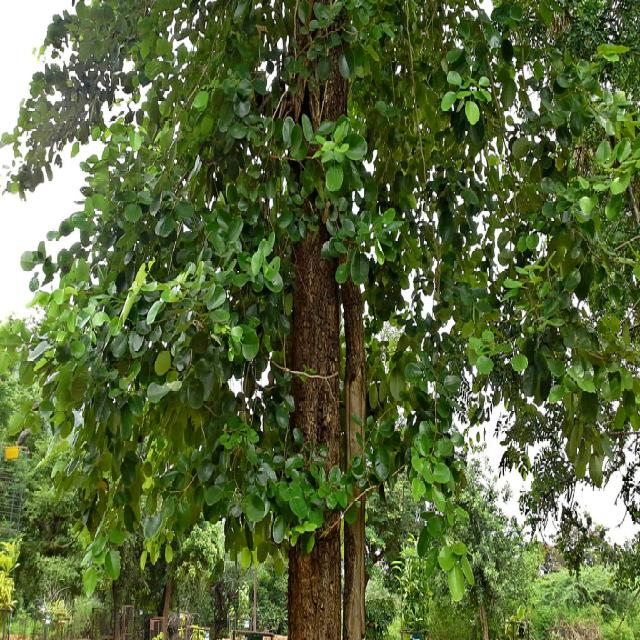Medicinal-Sandalwood: (13, 0, 639, 623)
